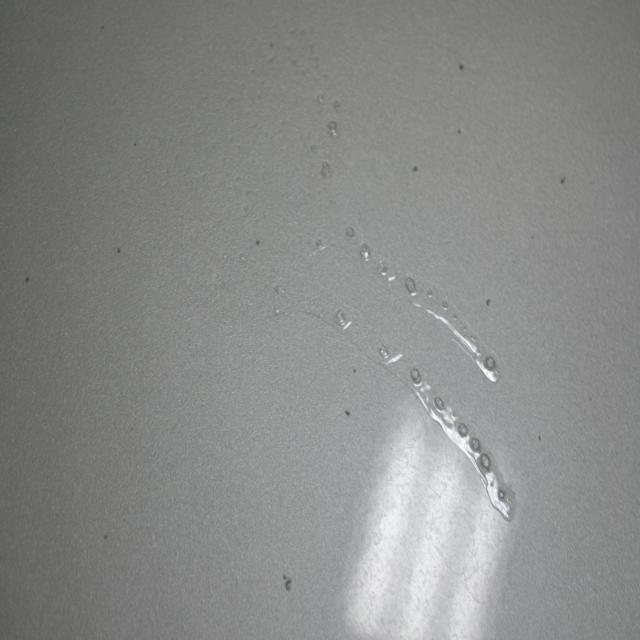dirt: (452, 121, 464, 147), (283, 568, 293, 596), (558, 170, 568, 190), (482, 292, 492, 312), (252, 236, 262, 253), (343, 406, 354, 420), (458, 58, 467, 75), (411, 162, 420, 177), (536, 432, 544, 448), (23, 277, 32, 291), (115, 242, 122, 256), (352, 367, 360, 377), (102, 531, 108, 542)
runs: (136, 24, 518, 520)
